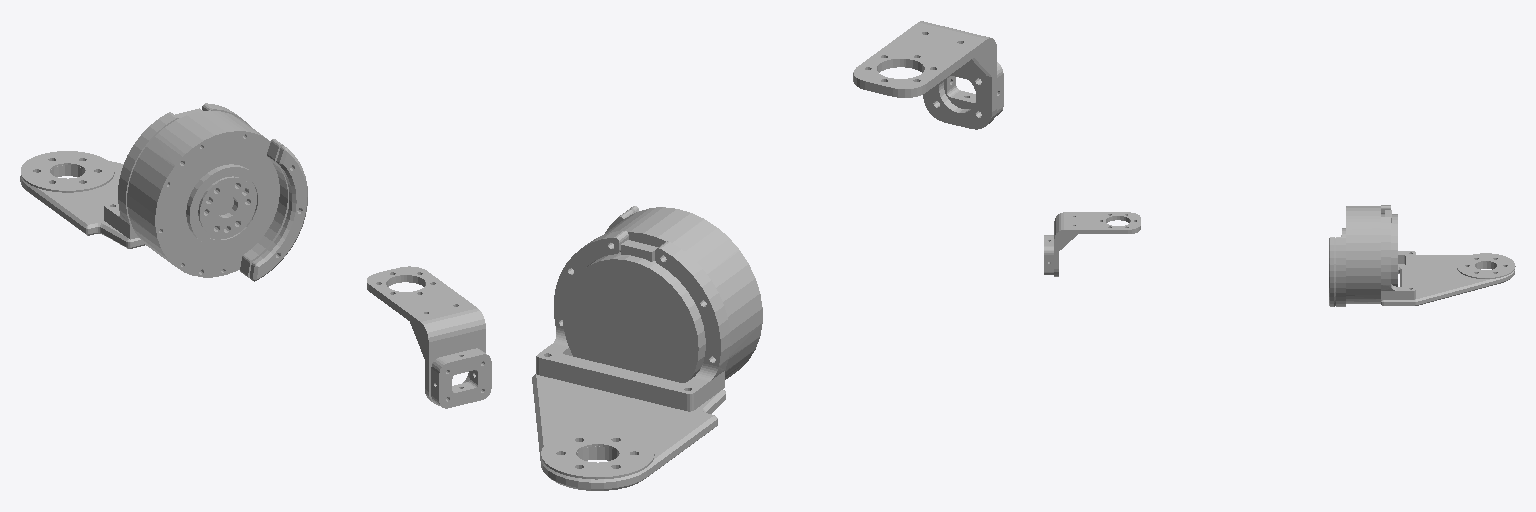
robot.urdf — robstride:
<?xml version="1.0" encoding="utf-8"?>
<robot name="robstride">
  <link name="base"/>
  <joint name="right_fixed" type="fixed">
    <origin rpy="0 0 0" xyz="0 0 0"/>
    <parent link="base"/>
    <child link="right_base_link"/>
  </joint>
  <link name="right_base_link">
    <inertial>
      <origin xyz="-0.00025799 -0.029883 0.7" rpy="0 0 0" />
      <mass value="1.6258" />
      <inertia ixx="0.0017026" ixy="-3.9333E-08" ixz="-3.604E-06" iyy="0.0027764" iyz="2.0132E-06" izz="0.0016415" />
    </inertial>
    <visual>
      <origin xyz="0 0 0" rpy="0 0 0" />
      <geometry>
        <mesh filename="right_base_link.STL" />
      </geometry>
      <material name="">
        <color rgba="0.75294 0.75294 0.75294 1" />
      </material>
    </visual>
    <collision>
      <origin xyz="0 0 0" rpy="0 0 0" />
      <geometry>
        <mesh filename="right_base_link.STL" />
      </geometry>
    </collision>
  </link>
  <link name="right_link1">
    <inertial>
      <origin xyz="-0.0060597 -0.00033237 0.064283" rpy="0 0 0" />
      <mass value="1.6394" />
      <inertia ixx="0.0028237" ixy="1.1023E-05" ixz="4.3224E-05" iyy="0.0017259" iyz="-2.3694E-05" izz="0.0017317" />
    </inertial>
    <visual>
      <origin xyz="0 0 0" rpy="0 0 0" />
      <geometry>
        <mesh filename="right_link1.STL" />
      </geometry>
      <material name="">
        <color rgba="0.75294 0.75294 0.75294 1" />
      </material>
    </visual>
    <collision>
      <origin xyz="0 0 0" rpy="0 0 0" />
      <geometry>
        <mesh filename="right_link1.STL" />
      </geometry>
    </collision>
  </link>
  <joint name="r_joint1" type="revolute">
    <origin xyz="0 -0.0675 0" rpy="1.5708 0 0" />
    <parent link="right_base_link" />
    <child link="right_link1" />
    <axis xyz="0 0 -1" />
    <limit lower="-2.93" upper="1.83" effort="60" velocity="18.84" />
  </joint>
  <link name="right_link2">
    <inertial>
      <origin xyz="0.00061246 -0.095278 -0.026226" rpy="0 0 0" />
      <mass value="1.1072" />
      <inertia ixx="0.00081879" ixy="-4.4518E-08" ixz="-4.4531E-07" iyy="0.0011274" iyz="-8.5582E-05" izz="0.00084188" />
    </inertial>
    <visual>
      <origin xyz="0 0 0" rpy="0 0 0" />
      <geometry>
        <mesh filename="right_link2.STL" />
      </geometry>
      <material name="">
        <color rgba="0.75294 0.75294 0.75294 1" />
      </material>
    </visual>
    <collision>
      <origin xyz="0 0 0" rpy="0 0 0" />
      <geometry>
        <mesh filename="right_link2.STL" />
      </geometry>
    </collision>
  </link>
  <joint name="r_joint2" type="revolute">
    <origin xyz="0.02775 0 0.07" rpy="-1.5708 0 -1.5708" />
    <parent link="right_link1" />
    <child link="right_link2" />
    <axis xyz="0 0 -1" />
    <limit lower="-1.84" upper="1.4" effort="60" velocity="18.84" />
  </joint>
  <link name="right_link3">
    <inertial>
      <origin xyz="-0.0077183 -0.023944 0.13982" rpy="0 0 0" />
      <mass value="1.161" />
      <inertia ixx="0.0012382" ixy="-4.4631E-08" ixz="6.3046E-06" iyy="0.00077359" iyz="1.5563E-05" izz="0.00064504" />
    </inertial>
    <visual>
      <origin xyz="0 0 0" rpy="0 0 0" />
      <geometry>
        <mesh filename="right_link3.STL" />
      </geometry>
      <material name="">
        <color rgba="0.75294 0.75294 0.75294 1" />
      </material>
    </visual>
    <collision>
      <origin xyz="0 0 0" rpy="0 0 0" />
      <geometry>
        <mesh filename="right_link3.STL" />
      </geometry>
    </collision>
  </link>
  <joint name="r_joint3" type="revolute">
    <origin xyz="0 -0.139 -0.02775" rpy="1.5708 0 0" />
    <parent link="right_link2" />
    <child link="right_link3" />
    <axis xyz="0 0 -1" />
    <limit lower="-1.75" upper="2.55" effort="25" velocity="18.84" />
  </joint>
  <link name="right_link4">
    <inertial>
      <origin xyz="-0.024501 -0.086748 -0.024903" rpy="0 0 0" />
      <mass value="0.50959" />
      <inertia ixx="0.00025117" ixy="-1.037E-05" ixz="-1.2834E-06" iyy="0.00036316" iyz="-4.681E-06" izz="0.00028817" />
    </inertial>
    <visual>
      <origin xyz="0 0 0" rpy="0 0 0" />
      <geometry>
        <mesh filename="right_link4.STL" />
      </geometry>
      <material name="">
        <color rgba="0.75294 0.75294 0.75294 1" />
      </material>
    </visual>
    <collision>
      <origin xyz="0 0 0" rpy="0 0 0" />
      <geometry>
        <mesh filename="right_link4.STL" />
      </geometry>
    </collision>
  </link>
  <joint name="r_joint4" type="revolute">
    <origin xyz="0.02925 -0.025 0.15996" rpy="-1.5708 0 -1.5708" />
    <parent link="right_link3" />
    <child link="right_link4" />
    <axis xyz="0 0 -1" />
    <limit lower="0.0" upper="1.9" effort="25" velocity="18.84" />
  </joint>
  <link name="right_link5">
    <inertial>
      <origin xyz="1.1143E-05 -0.018712 0.079844" rpy="0 0 0" />
      <mass value="0.62009" />
      <inertia ixx="0.00041399" ixy="-8.164E-08" ixz="-2.4911E-09" iyy="0.00045649" iyz="2.3996E-06" izz="0.00018831" />
    </inertial>
    <visual>
      <origin xyz="0 0 0" rpy="0 0 0" />
      <geometry>
        <mesh filename="right_link5.STL" />
      </geometry>
      <material name="">
        <color rgba="0.75294 0.75294 0.75294 1" />
      </material>
    </visual>
    <collision>
      <origin xyz="0 0 0" rpy="0 0 0" />
      <geometry>
        <mesh filename="right_link5.STL" />
      </geometry>
    </collision>
  </link>
  <joint name="r_joint5" type="revolute">
    <origin xyz="-0.025 -0.12396 -0.028" rpy="1.5708 -1.5708 0" />
    <parent link="right_link4" />
    <child link="right_link5" />
    <axis xyz="0 0 -1" />
    <limit lower="-2.1" upper="2.4" effort="7" velocity="28" />
  </joint>
  <link name="right_link6">
    <inertial>
      <origin xyz="-0.00034528 -0.00032447 -0.03202" rpy="0 0 0" />
      <mass value="0.34836" />
      <inertia ixx="0.00014598" ixy="1.3757E-07" ixz="8.1641E-08" iyy="0.00012518" iyz="-2.491E-09" izz="0.00010598" />
    </inertial>
    <visual>
      <origin xyz="0 0 0" rpy="0 0 0" />
      <geometry>
        <mesh filename="right_link6.STL" />
      </geometry>
      <material name="">
        <color rgba="0.75294 0.75294 0.75294 1" />
      </material>
    </visual>
    <collision>
      <origin xyz="0 0 0" rpy="0 0 0" />
      <geometry>
        <mesh filename="right_link6.STL" />
      </geometry>
    </collision>
  </link>
  <joint name="r_joint6" type="revolute">
    <origin xyz="0 -0.032 0.17" rpy="1.5708 0 0" />
    <parent link="right_link5" />
    <child link="right_link6" />
    <axis xyz="0 0 -1" />
    <limit lower="-1.4" upper="1.4" effort="5.5" velocity="25" />
  </joint>
  <link name="right_link7">
    <inertial>
      <origin xyz="-2.7286E-13 0.037121 -0.015017" rpy="0 0 0" />
      <mass value="0.043226" />
      <inertia ixx="1.8703E-05" ixy="-1.4456E-19" ixz="1.0593E-19" iyy="9.6135E-06" iyz="4.2677E-06" izz="1.783E-05" />
    </inertial>
    <visual>
      <origin xyz="0 0 0" rpy="0 0 0" />
      <geometry>
        <mesh filename="right_link7.STL" />
      </geometry>
      <material name="">
        <color rgba="0.75294 0.75294 0.75294 1" />
      </material>
    </visual>
    <collision>
      <origin xyz="0 0 0" rpy="0 0 0" />
      <geometry>
        <mesh filename="right_link7.STL" />
      </geometry>
    </collision>
  </link>
  <joint name="r_joint7" type="revolute">
    <origin xyz="-0.03 0 -0.032" rpy="0 -1.5708 0" />
    <parent link="right_link6" />
    <child link="right_link7" />
    <axis xyz="0 0 -1" />
    <limit lower="-0.68" upper="0.68" effort="5.5" velocity="25" />
  </joint>
  <link name="right_ee"/>
  <joint name="r_jointee_fixed" type="fixed">
    <origin xyz="0 0 -0.028" rpy="0 0 1.57"/>
    <parent link="right_link7"/>
    <child link="right_ee"/>
  </joint>
</robot>

--- Render facts (derived) ---
3 views of the same robot in one strip: view 1: azimuth 30°, elevation 25°; view 2: azimuth 150°, elevation 25°; view 3: azimuth 270°, elevation 25° (orthographic).
Robot: robstride — 10 links, 9 joints (7 revolute, 2 fixed); root link base; default pose: every joint at zero.
Visible links, largest first — view 1: right_link4, right_link7; view 2: right_link4, right_link7; view 3: right_link4, right_link7.
Link boxes in pixels (box(x1,y1,x2,y2)): right_link4: box(20, 103, 307, 281); right_link7: box(367, 266, 491, 408); right_link4: box(532, 206, 762, 490); right_link7: box(853, 21, 1003, 129); right_link4: box(1329, 205, 1515, 306); right_link7: box(1044, 212, 1140, 276).
Size in the robot's own frame: 0.09 by 0.3765 by 0.0791 metres.
Meshes: 8 distinct files referenced, 2 mesh visuals loaded (2 binary STL); not drawn: 6 (reference not matched to a file when rendering).